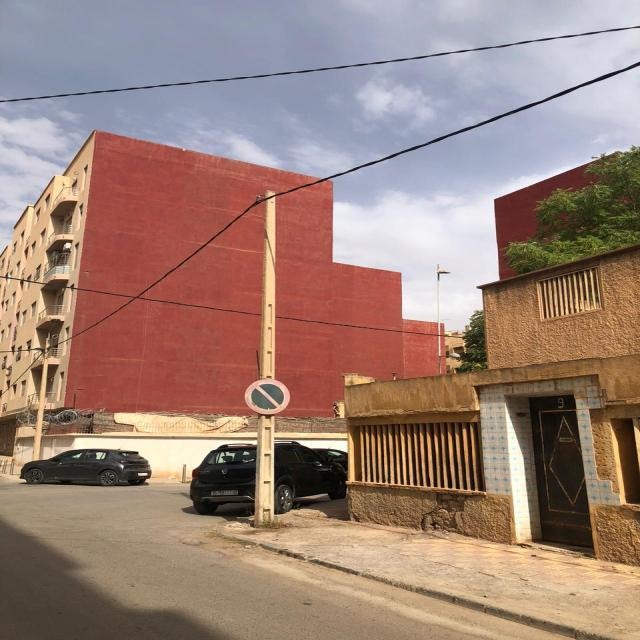Electric pole: (244, 191, 290, 527), (31, 337, 48, 461)
